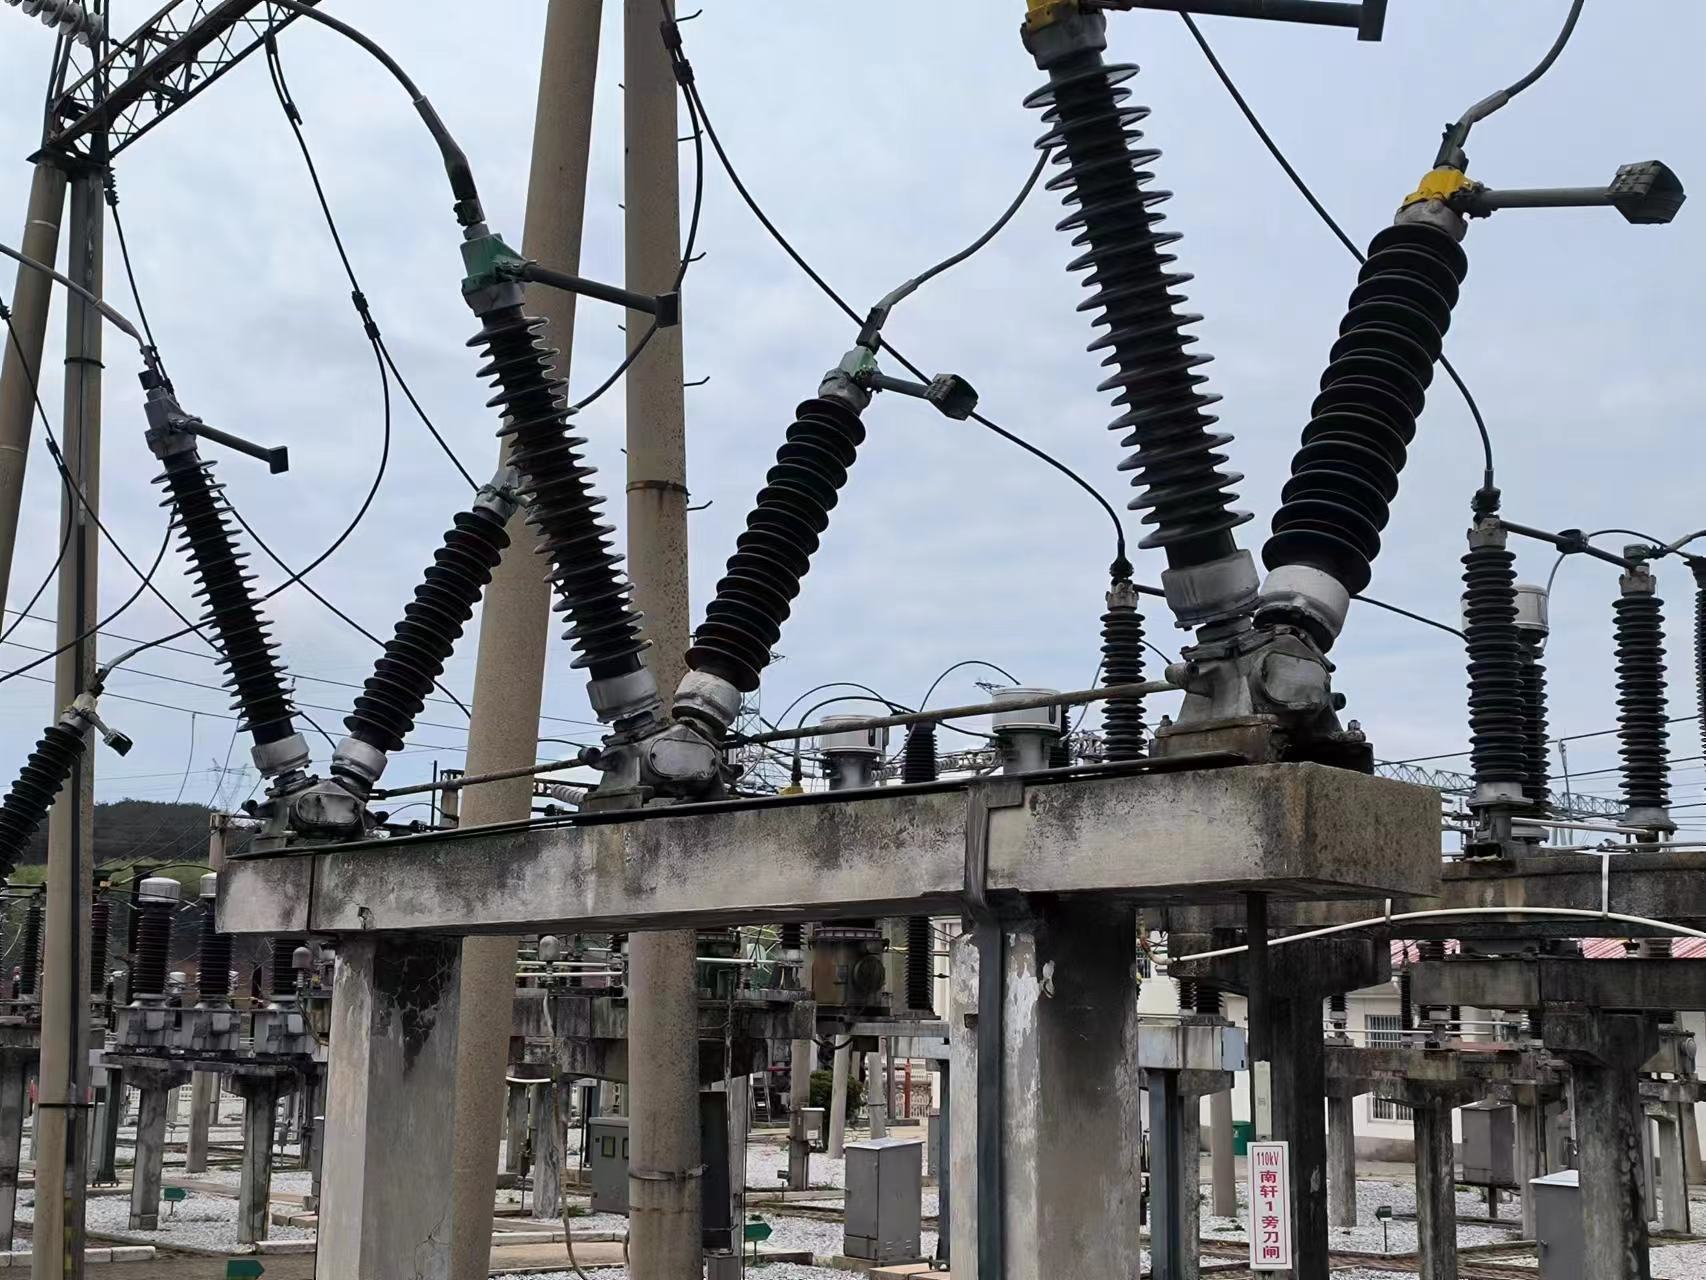Isolating switch: (1020, 9, 1689, 674), (450, 231, 976, 730), (136, 364, 501, 789)
